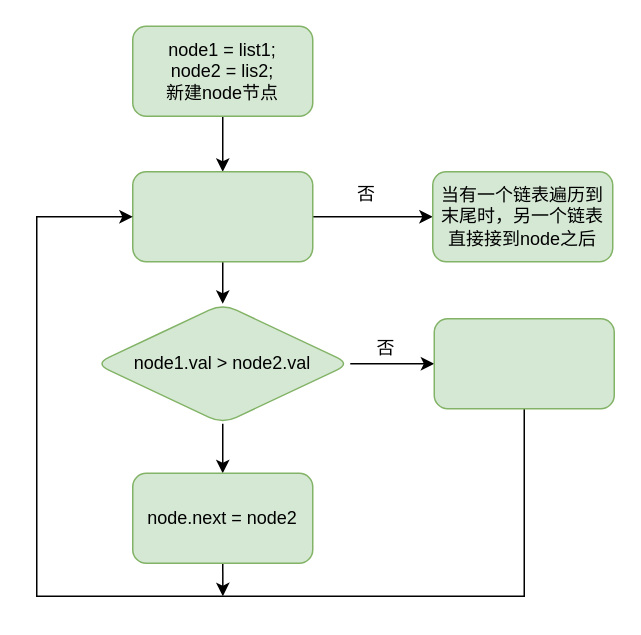
This 641x635 diagram has some shape labels left out. The box of each missing label's shape, as (x1, y1, x2, y2) in pixels:
node.next = node1: (433, 317, 614, 409)
while(node1 != null && node2 != null): (131, 170, 313, 262)
